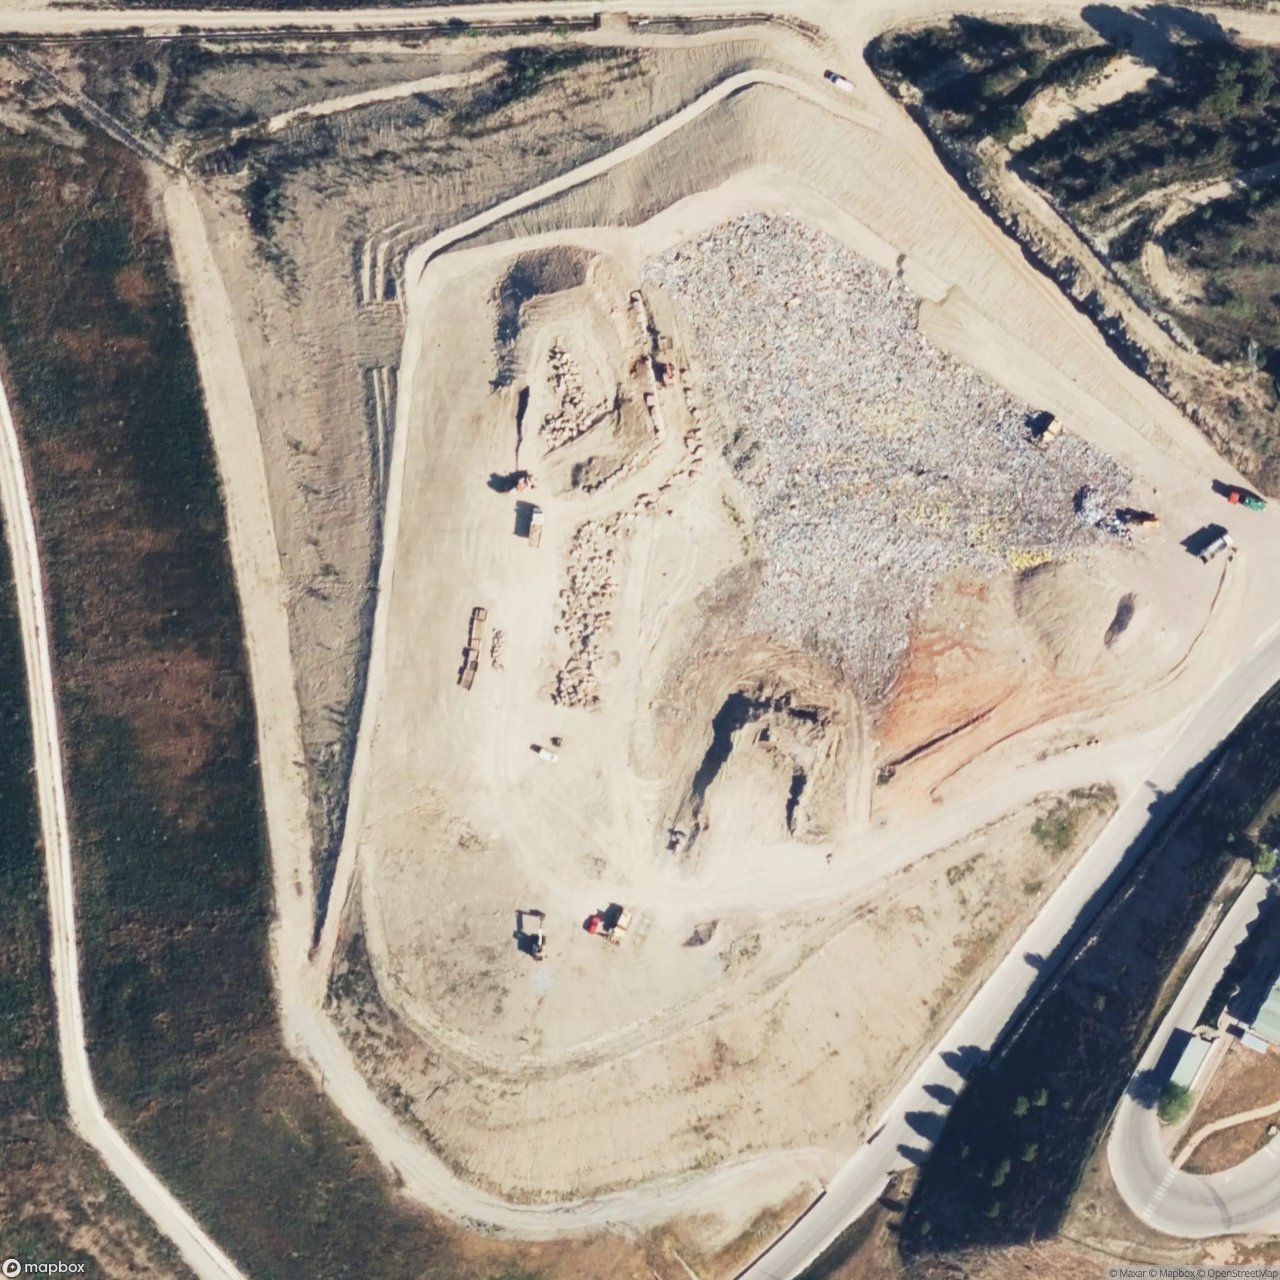dump_site: (632, 175, 1170, 685), (540, 516, 624, 722)
